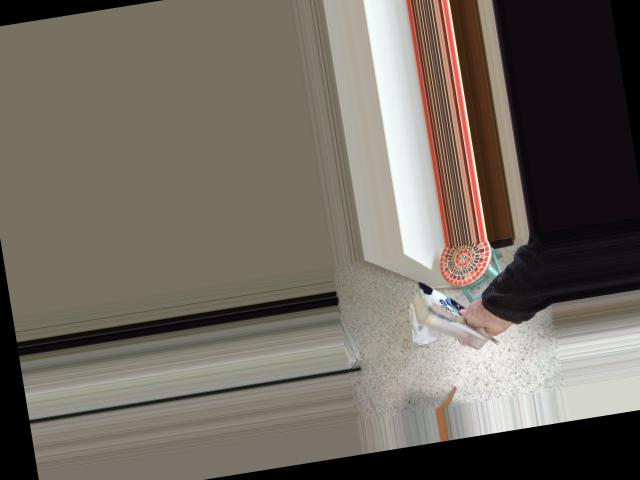cheese: (394, 257, 514, 369)
